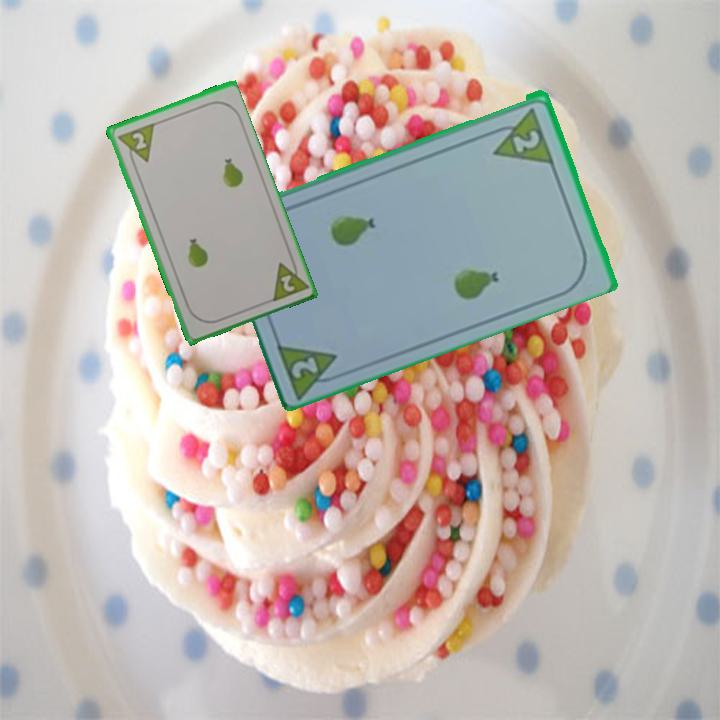2p: (267, 253, 310, 305), (509, 125, 543, 155), (288, 352, 322, 381), (128, 128, 149, 152)
